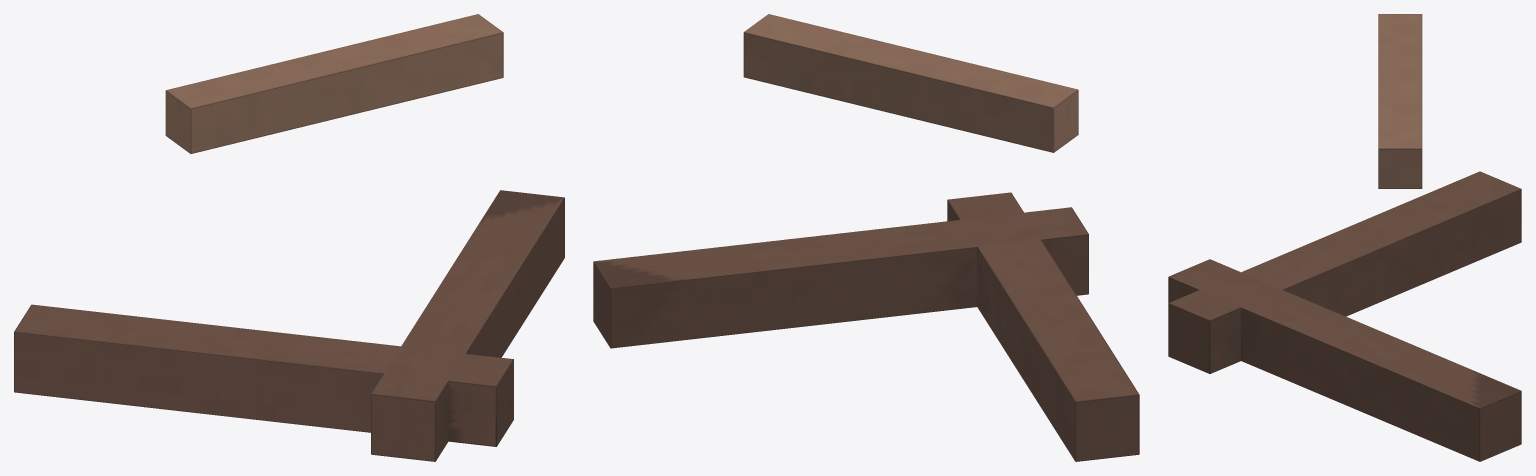
The model's file is fire-beam-tie.glb.
3 renders of one model, left to right at view 1: azimuth 30°, elevation 25°; view 2: azimuth 150°, elevation 25°; view 3: azimuth 270°, elevation 25°, orthographic. The views are drawn at different scales.
Parts seen in each view (by area): view 1: part-a, part-b, part-c; view 2: part-b, part-c, part-a; view 3: part-b, part-a, part-c.
Boxes of the visible parts, x1,y1,x2,y2 form: part-a: (14,304,513,446); part-b: (371,190,564,461); part-c: (165,14,503,153); part-b: (593,207,1088,348); part-c: (743,14,1078,152); part-a: (947,192,1139,461); part-b: (1168,259,1521,461); part-a: (1168,171,1521,373); part-c: (1378,14,1422,188).
Size of the model in its own units: 1.15 by 0.5908 by 0.7219.
